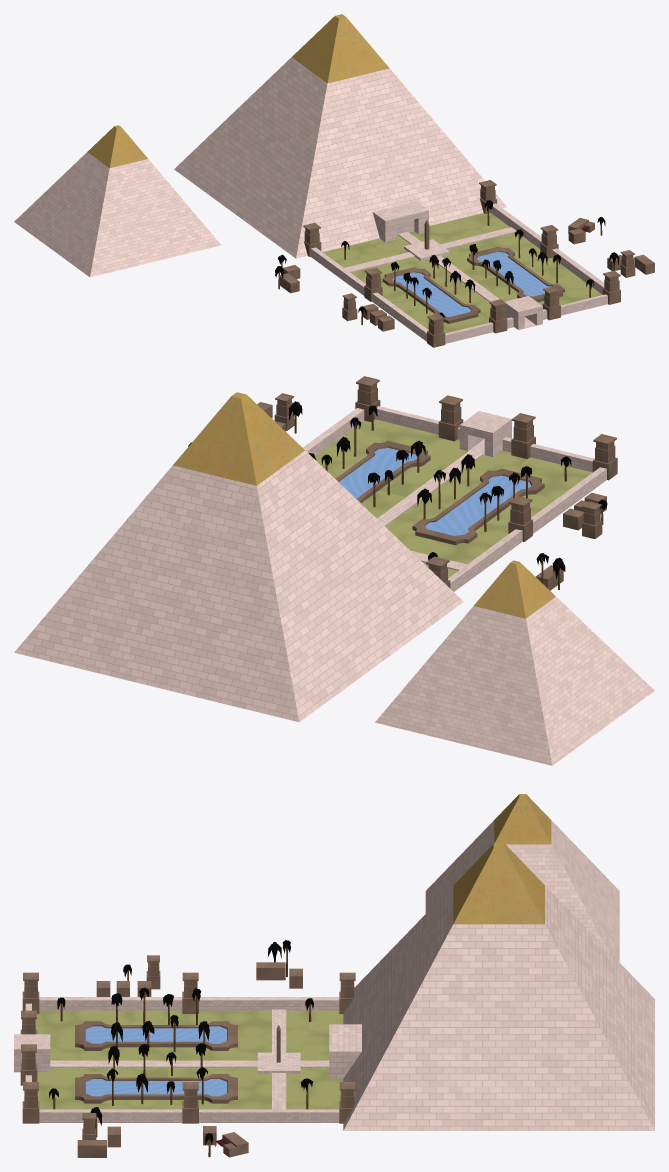
The model's file is miniatur_pyramide_finished.gltf.
The picture shows the model from 3 angles, top to bottom: view 1: azimuth 30°, elevation 25°; view 2: azimuth 150°, elevation 25°; view 3: azimuth 270°, elevation 25°; orthographic projection. The views are drawn at different scales.
Parts seen in each view (by area): view 1: Pyramide Main, Pyramide klein, Garten, Cube.001, Brunnen L, Brunnen R, Cube, Turm 3, Turm 4, Turm 5, Turm 6; view 2: Pyramide Main, Pyramide klein, Garten, Brunnen L, Brunnen R, Cube.001, Turm 4, Turm 5, Turm 3, Turm 2, Turm 6, house 3 v2; view 3: Pyramide Main, Garten, Pyramide klein, Cube.001, Brunnen L, Brunnen R, Cube, Turm 6, Turm 7, Turm 2, Turm 3, Turm 5 (+5 smaller).
Boxes of the visible parts, bbox=[...] form: Pyramide Main: bbox=[174, 14, 506, 258]; Pyramide klein: bbox=[14, 125, 221, 277]; Garten: bbox=[310, 203, 607, 343]; Cube.001: bbox=[344, 227, 516, 301]; Brunnen L: bbox=[382, 267, 480, 323]; Brunnen R: bbox=[467, 246, 564, 302]; Cube: bbox=[372, 201, 428, 242]; Turm 3: bbox=[427, 313, 445, 347]; Turm 4: bbox=[489, 299, 507, 333]; Turm 5: bbox=[542, 286, 560, 320]; Turm 6: bbox=[602, 270, 620, 304]; Pyramide Main: bbox=[14, 392, 463, 722]; Pyramide klein: bbox=[375, 560, 654, 765]; Garten: bbox=[303, 406, 606, 591]; Brunnen L: bbox=[412, 468, 544, 545]; Brunnen R: bbox=[335, 440, 430, 504]; Cube.001: bbox=[377, 450, 483, 570]; Turm 4: bbox=[511, 413, 535, 459]; Turm 5: bbox=[438, 395, 463, 441]; Turm 3: bbox=[592, 434, 617, 480]; Turm 2: bbox=[508, 496, 532, 541]; Turm 6: bbox=[355, 376, 380, 422]; house 3 v2: bbox=[582, 501, 602, 538]; Pyramide Main: bbox=[343, 843, 654, 1130]; Garten: bbox=[14, 997, 343, 1122]; Pyramide klein: bbox=[425, 794, 619, 961]; Cube.001: bbox=[50, 1009, 329, 1109]; Brunnen L: bbox=[75, 1021, 237, 1050]; Brunnen R: bbox=[75, 1074, 237, 1103]; Cube: bbox=[329, 1024, 361, 1078]; Turm 6: bbox=[22, 1082, 39, 1123]; Turm 7: bbox=[182, 1082, 198, 1123]; Turm 2: bbox=[182, 972, 198, 1013]; Turm 3: bbox=[22, 972, 39, 1013]; Turm 5: bbox=[20, 1044, 37, 1085].
Bounding box in the file's own units: 4.06 × 1.56 × 4.11.
10 materials, 9 textured.
